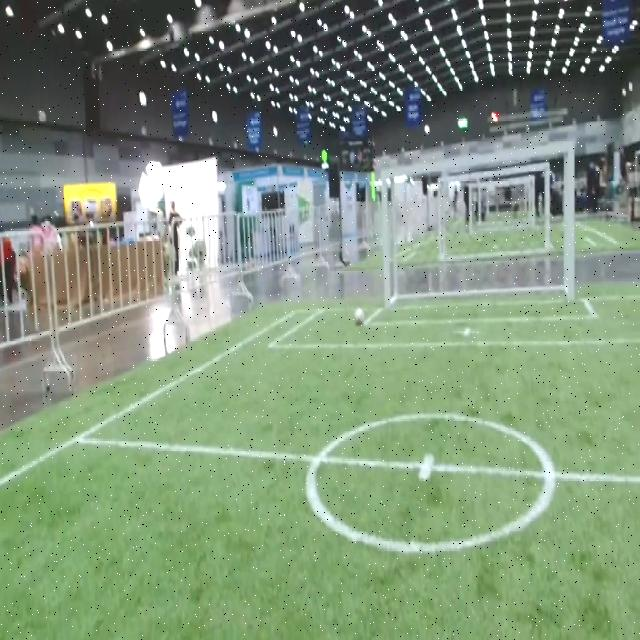ball: (354, 308, 364, 325)
goalpost: (564, 273, 576, 304), (382, 282, 393, 312)
